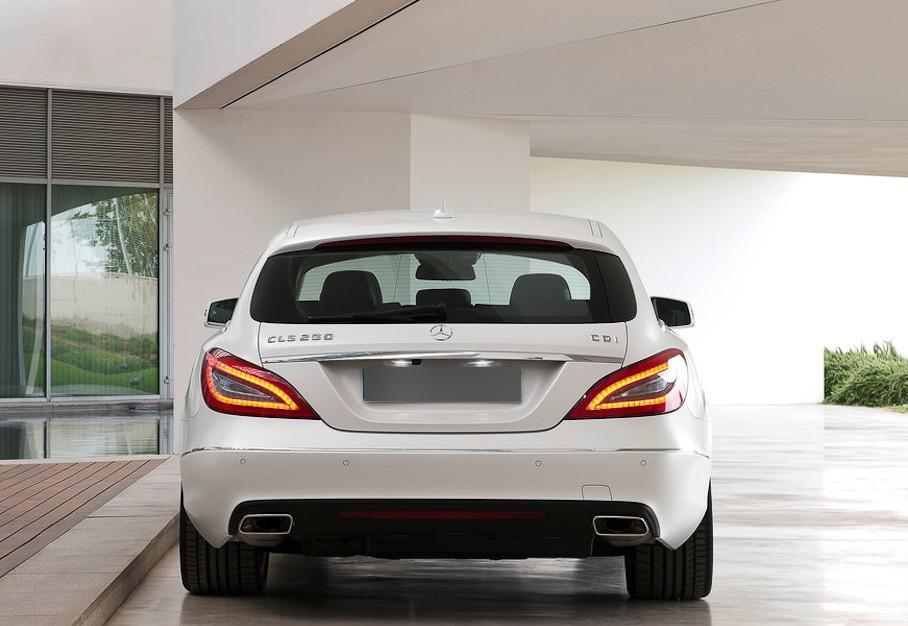Wagon: (178, 197, 715, 601)
